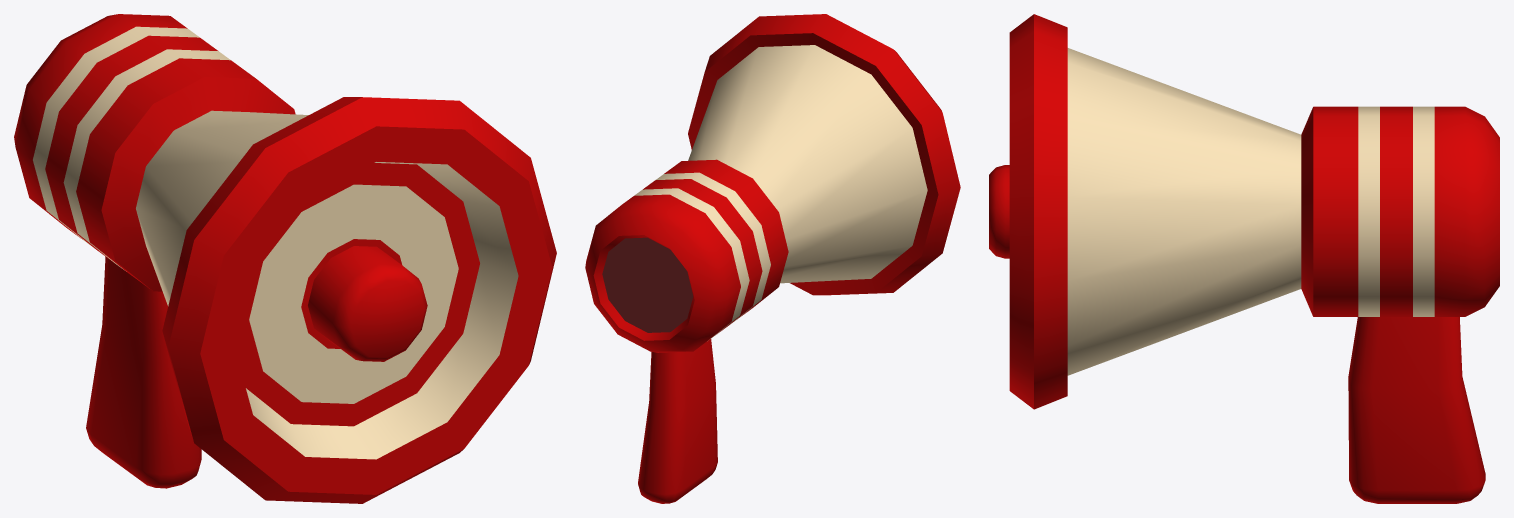
Rendered from Loudspeaker_1.fbx.
3 views of the same model, side by side, from view 1: azimuth 30°, elevation 25°; view 2: azimuth 150°, elevation 25°; view 3: azimuth 270°, elevation 25° (orthographic). The views are drawn at different scales.
Visible parts, largest first — view 1: Loudspeaker_1; view 2: Loudspeaker_1; view 3: Loudspeaker_1.
Part boxes in pixels (left/top/right/bottom): Loudspeaker_1: left=14, top=14, right=556, bottom=503; Loudspeaker_1: left=585, top=14, right=960, bottom=503; Loudspeaker_1: left=989, top=14, right=1499, bottom=503.
Bounding box in the file's own units: 0.2743 × 0.3565 × 0.3528.
